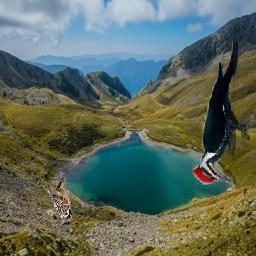Sparrow: (44, 177, 72, 221)
Woodpecker: (192, 42, 250, 186)
